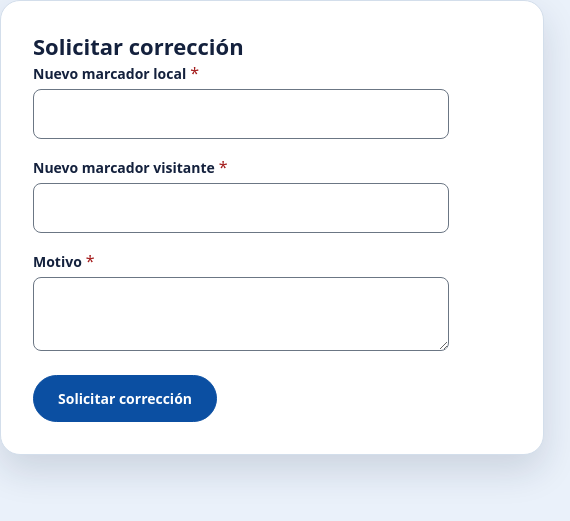
flujo de resultados › exige motivo para solicitar corrección
Click the button "Solicitar corrección": point(125, 398) [33,374,217,422]
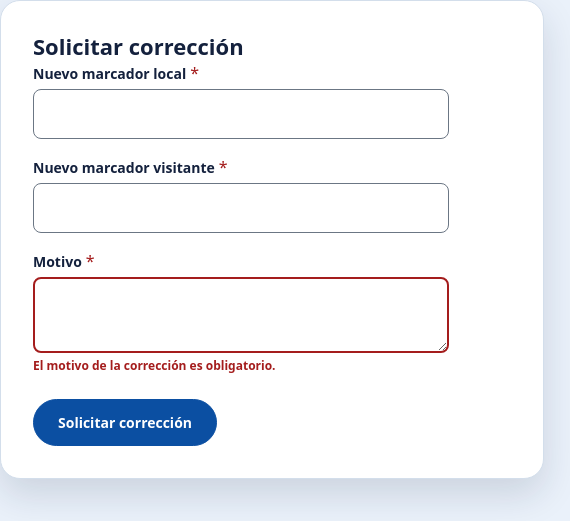
Now the message shows "motivo", box [33,356,276,374]
